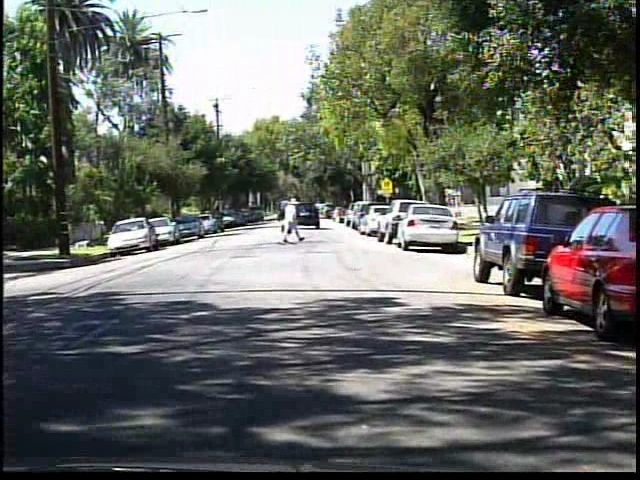person: (277, 195, 305, 245)
